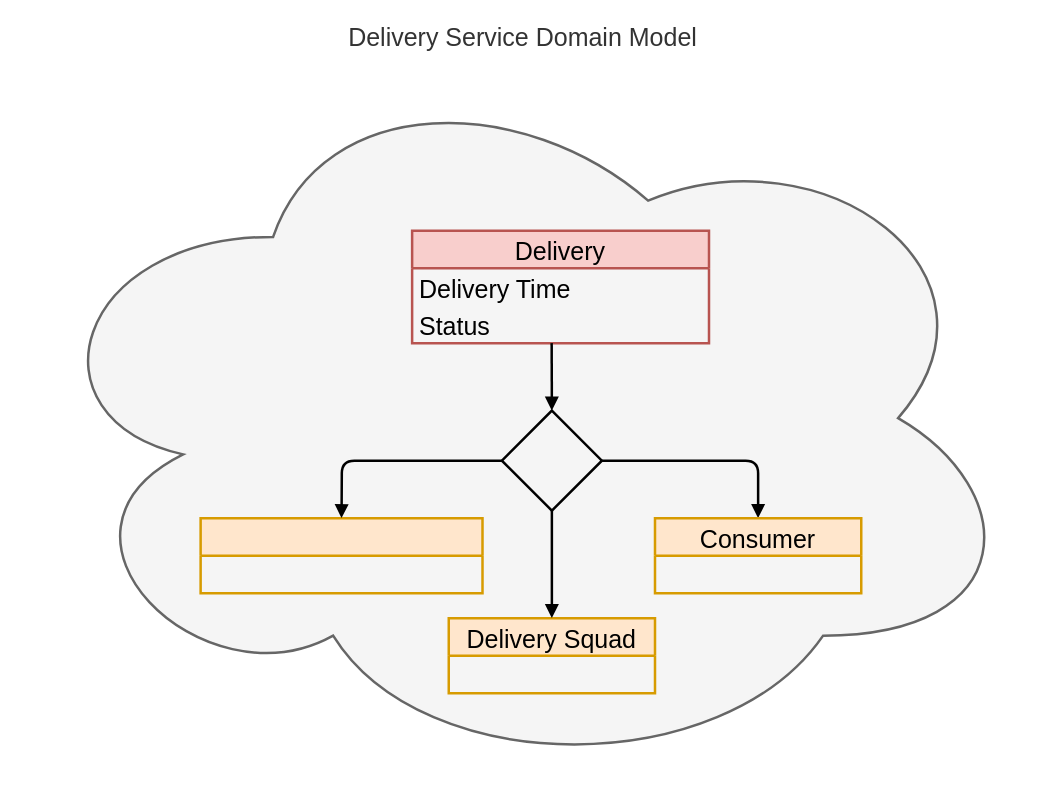
The diagram is 1045 pixels wide and 803 high, and some of its shapes have lost their labels. The shapes that lost their labels are listed below. From the top down, each one's centre as x and y in pixels, then its label:
At (x=551, y=460): "Has".
At (x=341, y=555): "Delivery Line Item".
